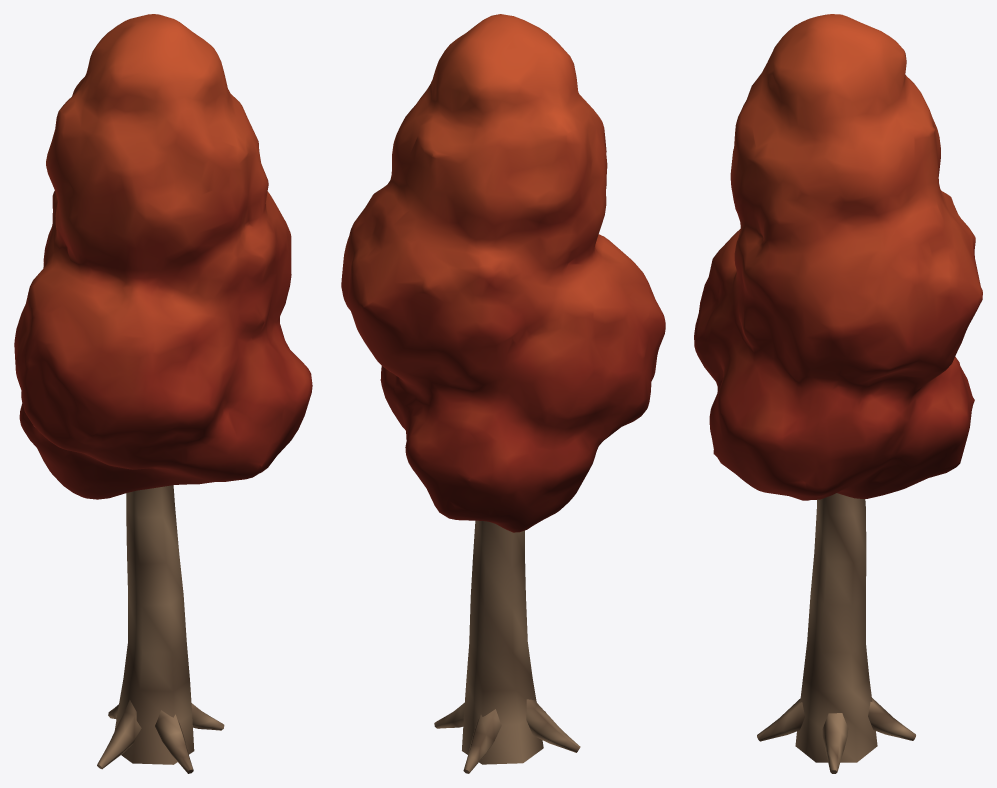
The model's file is SM_StylizedAutumnTree1.fbx.
3 views of the same model, side by side, from view 1: azimuth 30°, elevation 25°; view 2: azimuth 150°, elevation 25°; view 3: azimuth 270°, elevation 25° (orthographic).
Parts seen in each view (by area): view 1: SM_StylizedAutumnTree1; view 2: SM_StylizedAutumnTree1; view 3: SM_StylizedAutumnTree1.
Boxes of the visible parts, x1,y1,x2,y2 form: SM_StylizedAutumnTree1: (14,14,312,773); SM_StylizedAutumnTree1: (341,14,665,773); SM_StylizedAutumnTree1: (694,14,982,773).
Size of what is drawn, in the model's own units: 3.2 by 8.23 by 2.95.
